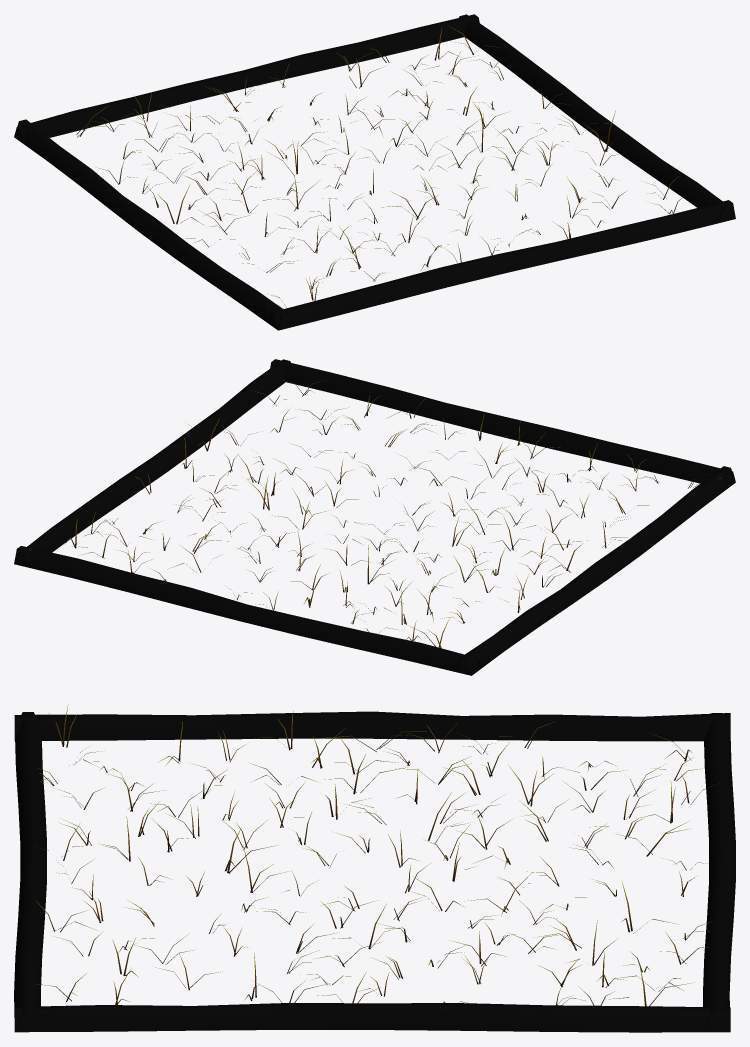
File: patch_paddy_far.glb
The picture shows the model from 3 angles, top to bottom: view 1: azimuth 30°, elevation 25°; view 2: azimuth 150°, elevation 25°; view 3: azimuth 270°, elevation 25°; orthographic projection. The views are drawn at different scales.
Visible parts, largest first — view 1: patch_paddy_far; view 2: patch_paddy_far; view 3: patch_paddy_far.
Boxes of the visible parts, x1,y1,x2,y2 form: patch_paddy_far: (14, 14, 735, 330); patch_paddy_far: (14, 359, 735, 675); patch_paddy_far: (14, 704, 735, 1032).
Bounding box in the file's own units: 12.11 × 0.8313 × 12.11.
1 material, 1 textured.
